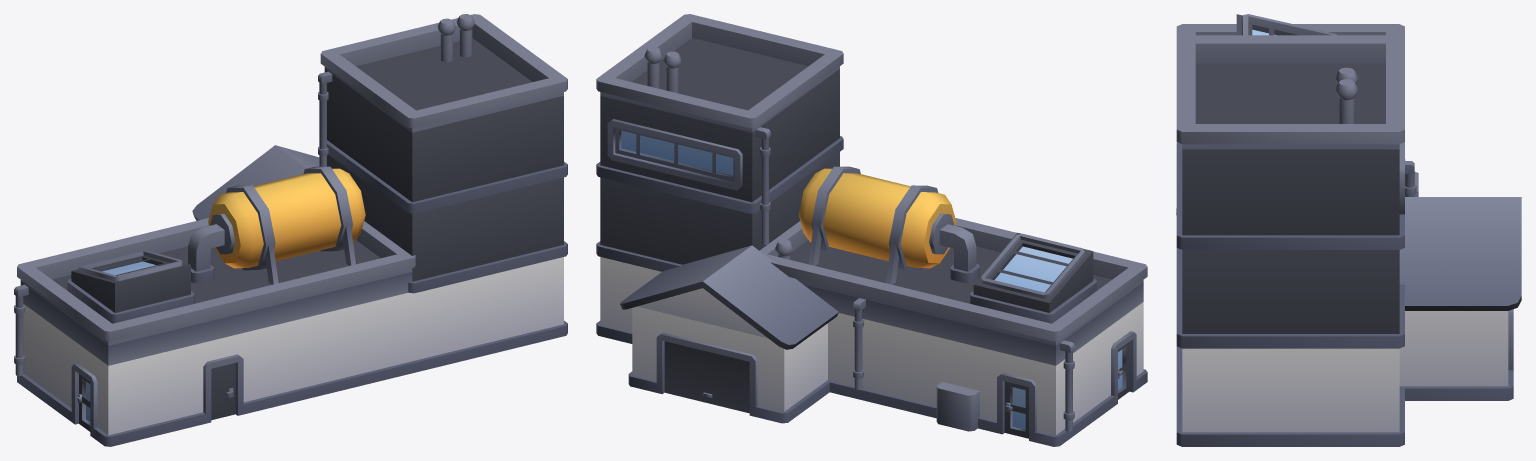
File: building-r.fbx
3 views of the same model, side by side, from view 1: azimuth 30°, elevation 25°; view 2: azimuth 150°, elevation 25°; view 3: azimuth 270°, elevation 25° (orthographic). The views are drawn at different scales.
Parts seen in each view (by area): view 1: building-r; view 2: building-r; view 3: building-r.
Boxes of the visible parts, x1=… form: building-r: x1=14, y1=14, x2=567, y2=446; building-r: x1=596, y1=14, x2=1147, y2=446; building-r: x1=1176, y1=14, x2=1521, y2=446.
Size of the model in its own units: 248 by 139 by 127.
Materials: 1 (1 with a texture image).
